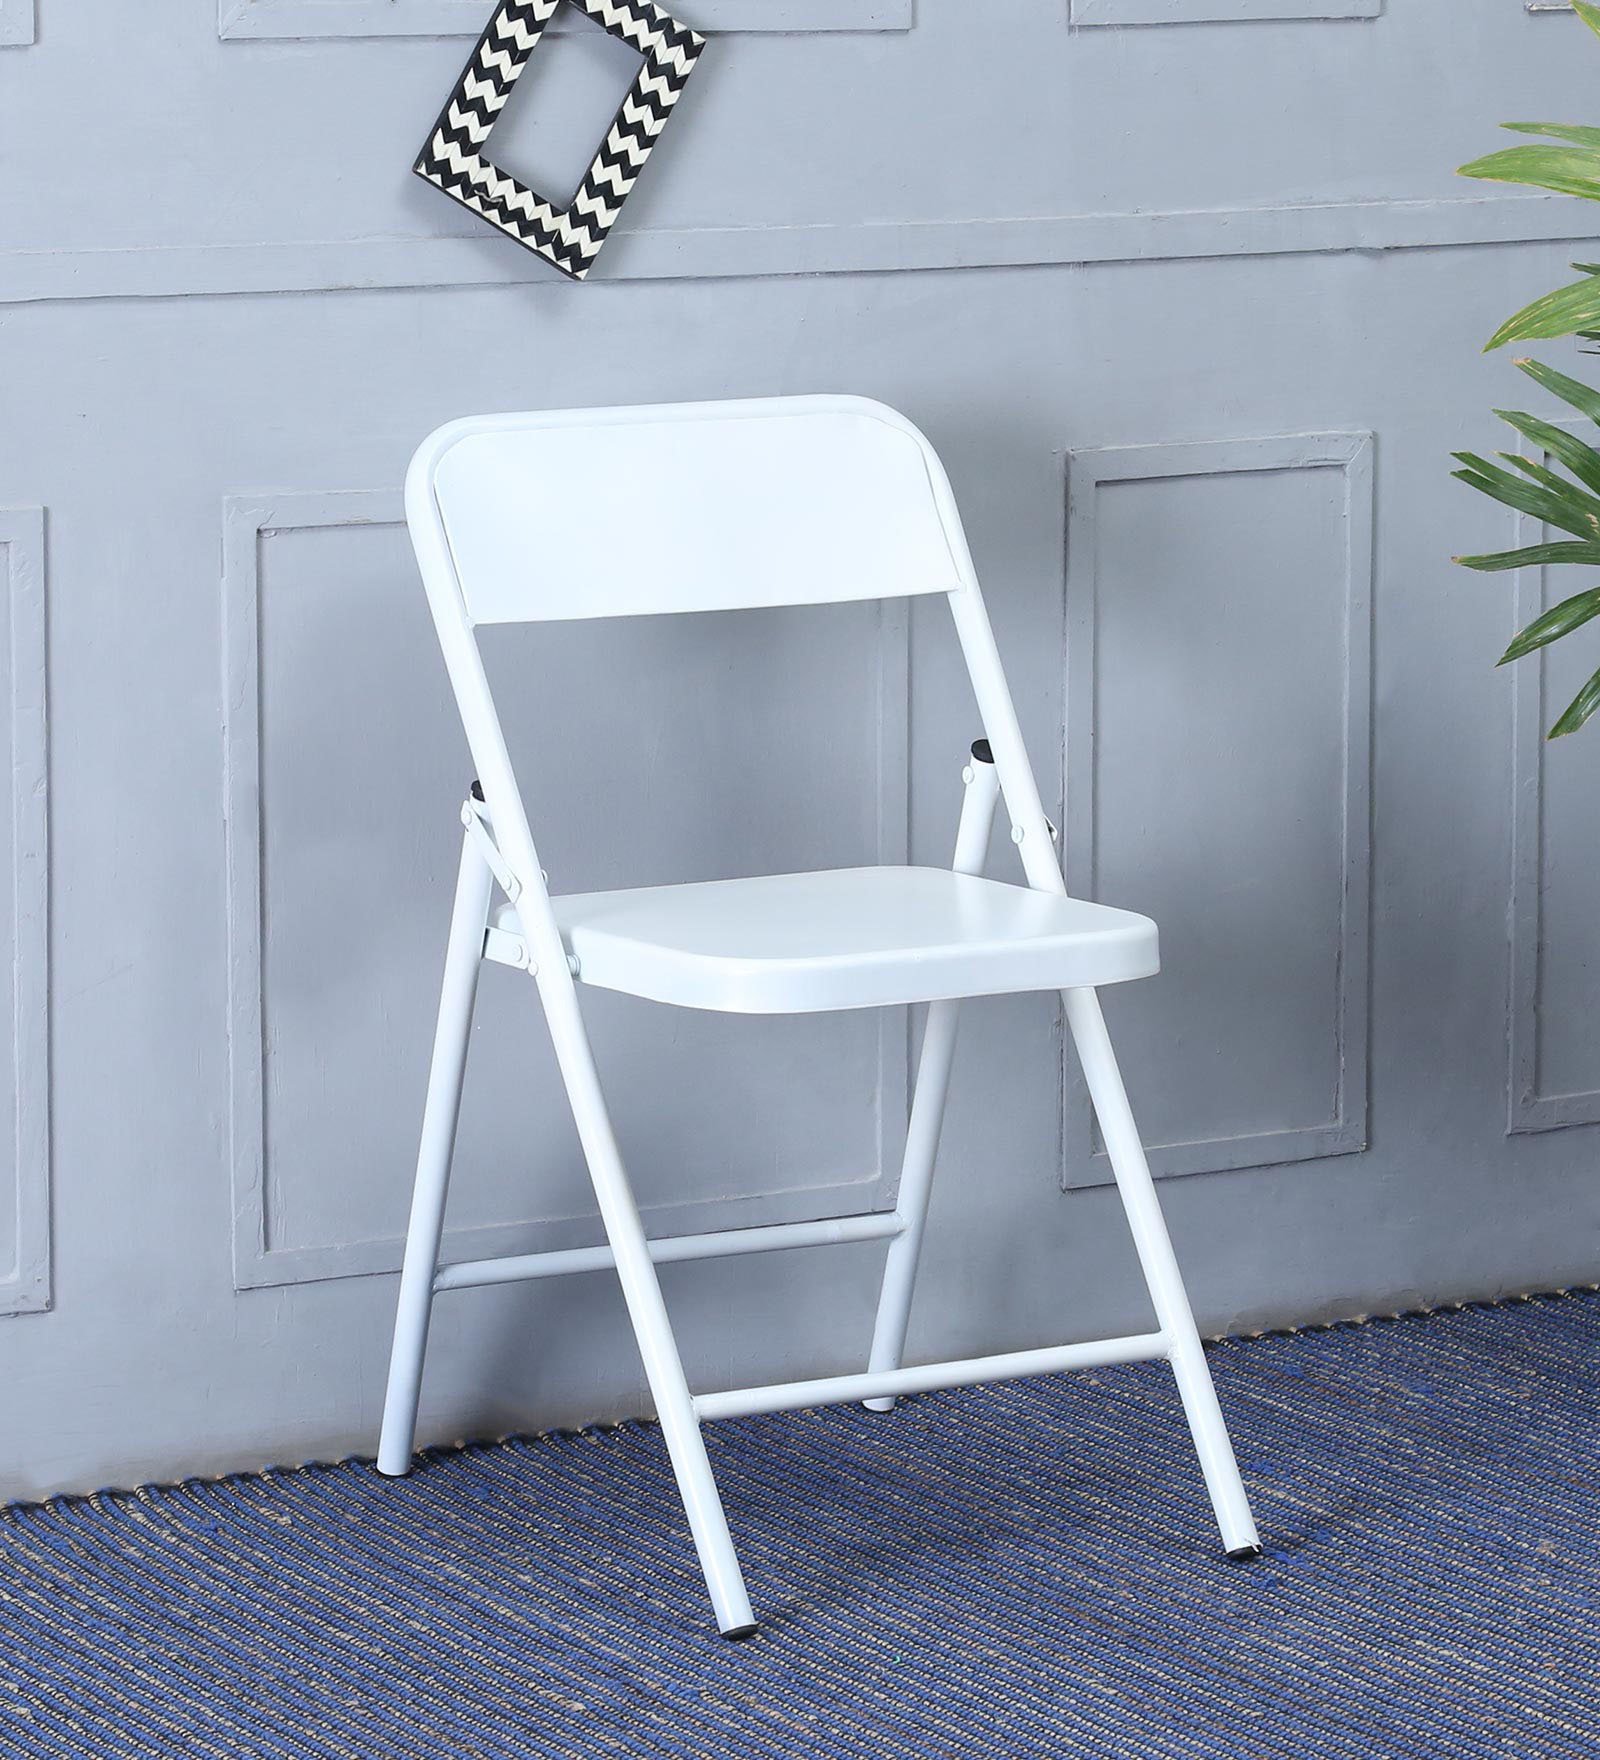Kell Folding Chair in White Color by Bohemiana: (328, 371, 1330, 1642)
